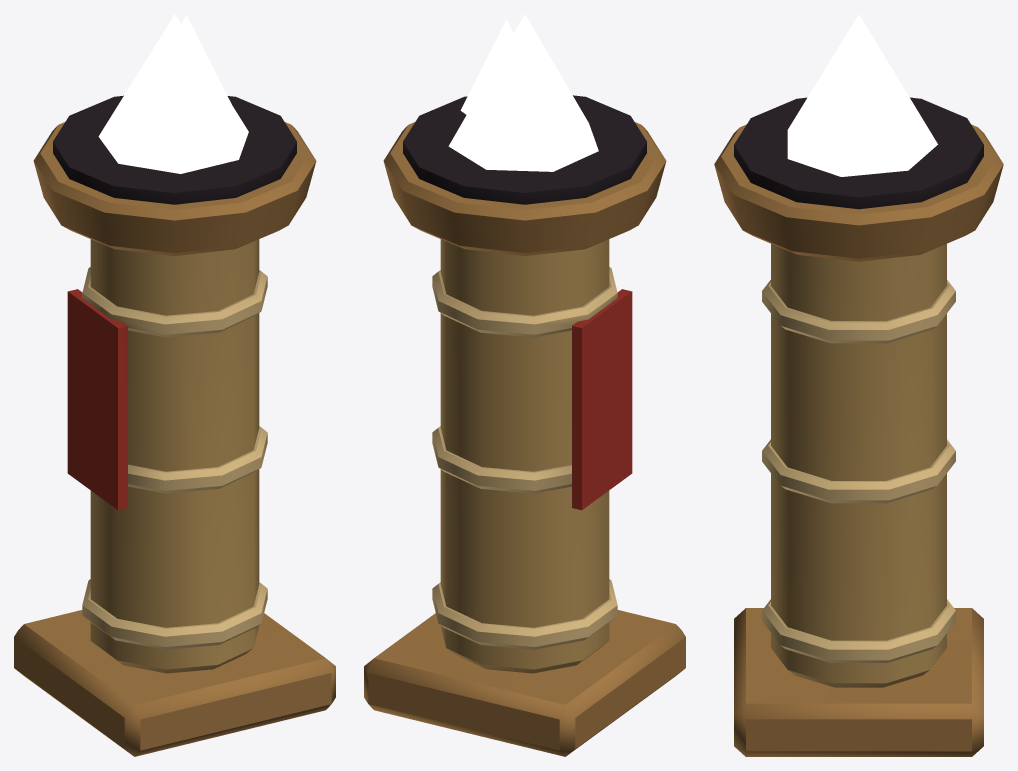
File: mt_pillar_2.glb
3 renders of one model, left to right at view 1: azimuth 30°, elevation 25°; view 2: azimuth 150°, elevation 25°; view 3: azimuth 270°, elevation 25°, orthographic. The views are drawn at different scales.
Parts seen in each view (by area): view 1: body, pulse_flame_glow; view 2: body, pulse_flame_glow; view 3: body, pulse_flame_glow.
Part boxes in pixels (x1=…): body: x1=14, y1=95, x2=335, y2=756; pulse_flame_glow: x1=98, y1=14, x2=248, y2=173; body: x1=364, y1=95, x2=685, y2=756; pulse_flame_glow: x1=448, y1=14, x2=598, y2=171; body: x1=714, y1=97, x2=1003, y2=756; pulse_flame_glow: x1=787, y1=14, x2=937, y2=176.
Size of the model in its own units: 1.97 by 5.22 by 1.97.
